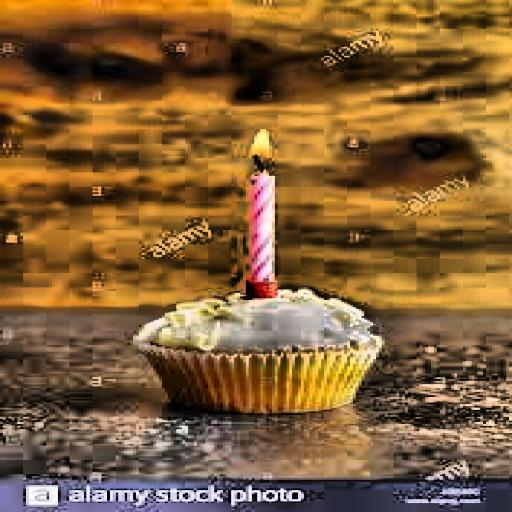fire: (232, 122, 280, 174)
